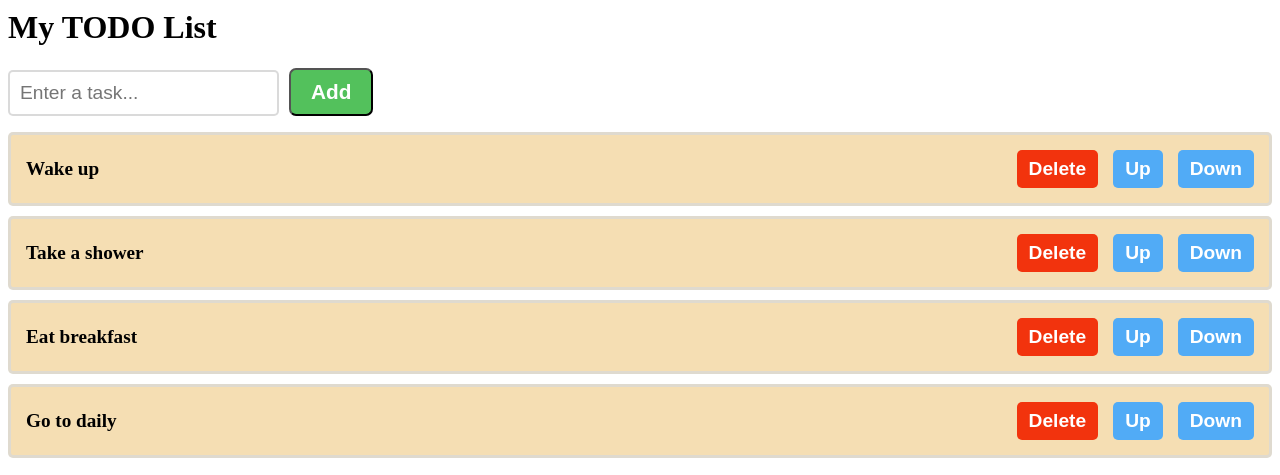
Test: Todo List component › State manipulation tests › should be able to move up a todo task using the up button
The image size is (1280, 475).
Click the button "Up" in the row of "Take a shower" at (1138, 253), box [1113,234,1163,272]
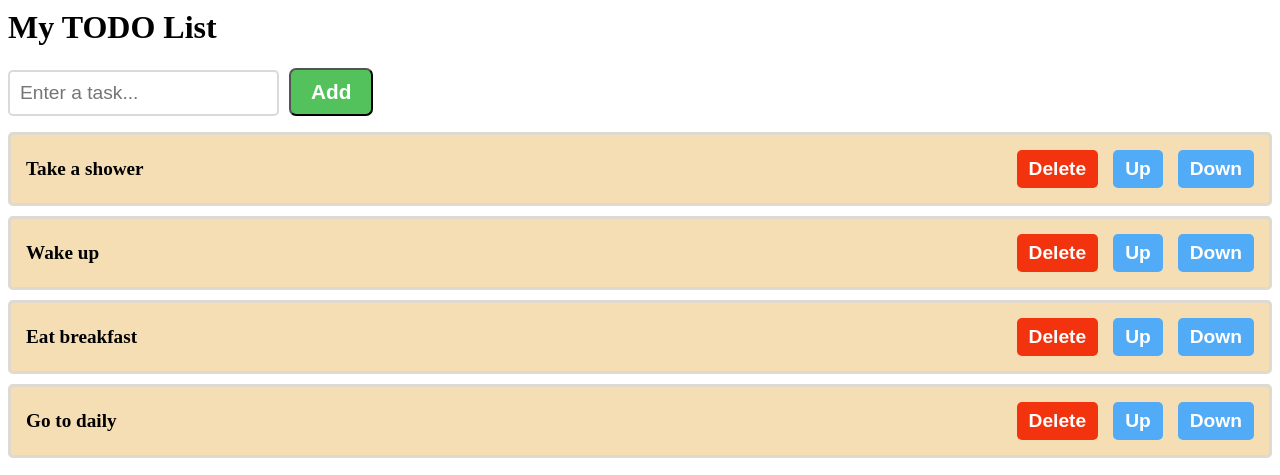
Expected: the text "Take a shower" is shown, [26,158,144,179]
